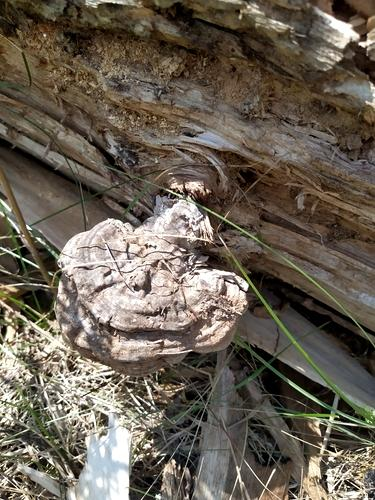Ganoderma - Fruit Body: (48, 199, 255, 382)
